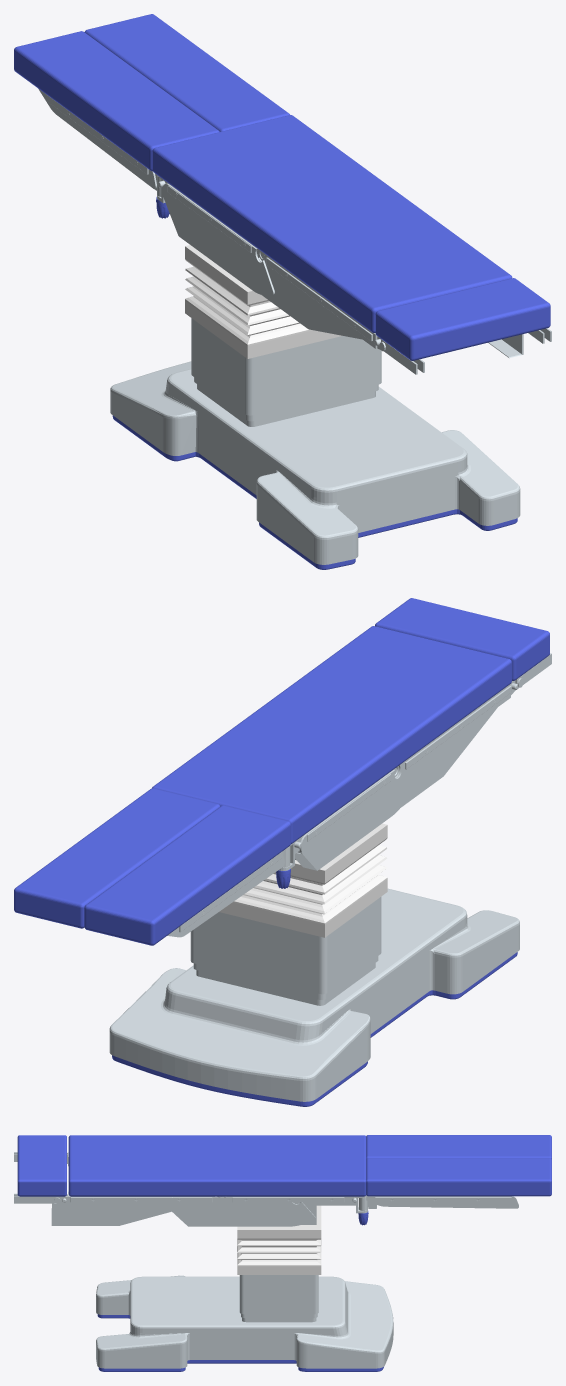
The model's file is operating_table.glb.
The picture shows the model from 3 angles, top to bottom: view 1: azimuth 30°, elevation 25°; view 2: azimuth 150°, elevation 25°; view 3: azimuth 270°, elevation 25°; orthographic projection. The views are drawn at different scales.
Parts seen in each view (by area): view 1: Rectangle0, ChamferBo9, ChamferB11, ChamferBo1, ChamferBo8, ChamferB10, Hose001, Line001, Line002, Object001, ChamferBo0, ChamferBox (+3 smaller); view 2: Rectangle0, ChamferBo9, ChamferB11, ChamferBo8, ChamferBo1, Hose001, ChamferB10, Line001, Line002, Object001, ChamferBo0, ChamferBox (+4 smaller); view 3: Rectangle0, ChamferBo9, ChamferBo8, Hose001, ChamferB11, Line008, ChamferBo1, ChamferB10, Line009, Object001, Line010, ChamferBo5 (+6 smaller).
Boxes of the visible parts, x1,y1,x2,y2 form: Rectangle0: (110,361,520,564); ChamferBo9: (152,115,512,332); ChamferB11: (14,31,219,171); ChamferBo1: (191,318,381,415); ChamferBo8: (84,14,289,131); ChamferB10: (375,278,550,360); Hose001: (185,245,342,358); Line001: (162,183,274,295); Line002: (258,254,377,348); Object001: (112,415,517,569); ChamferBo0: (194,377,378,421); ChamferBox: (197,384,375,426); Rectangle0: (109,888,519,1101); ChamferBo9: (152,626,511,843); ChamferB11: (84,805,290,945); ChamferBo8: (14,788,220,928); ChamferBo1: (190,897,381,994); Hose001: (219,823,387,937); ChamferB10: (375,598,549,680); Line001: (295,770,412,870); Line002: (395,684,510,807); Object001: (112,952,517,1106); ChamferBo0: (193,956,378,999); ChamferBox: (196,963,375,1005); Rectangle0: (96,1275,393,1368); ChamferBo9: (68,1135,366,1196); ChamferBo8: (366,1158,551,1196); Hose001: (237,1205,321,1274); ChamferB11: (366,1135,551,1159); Line008: (166,1197,315,1226); ChamferBo1: (239,1275,318,1314); ChamferB10: (17,1135,66,1196); Line009: (51,1196,209,1225); Object001: (97,1314,383,1371); Line010: (366,1196,518,1208); ChamferBo5: (70,1197,212,1202).
Bounding box in the file's own units: 9.92 × 12.81 × 33.6.
